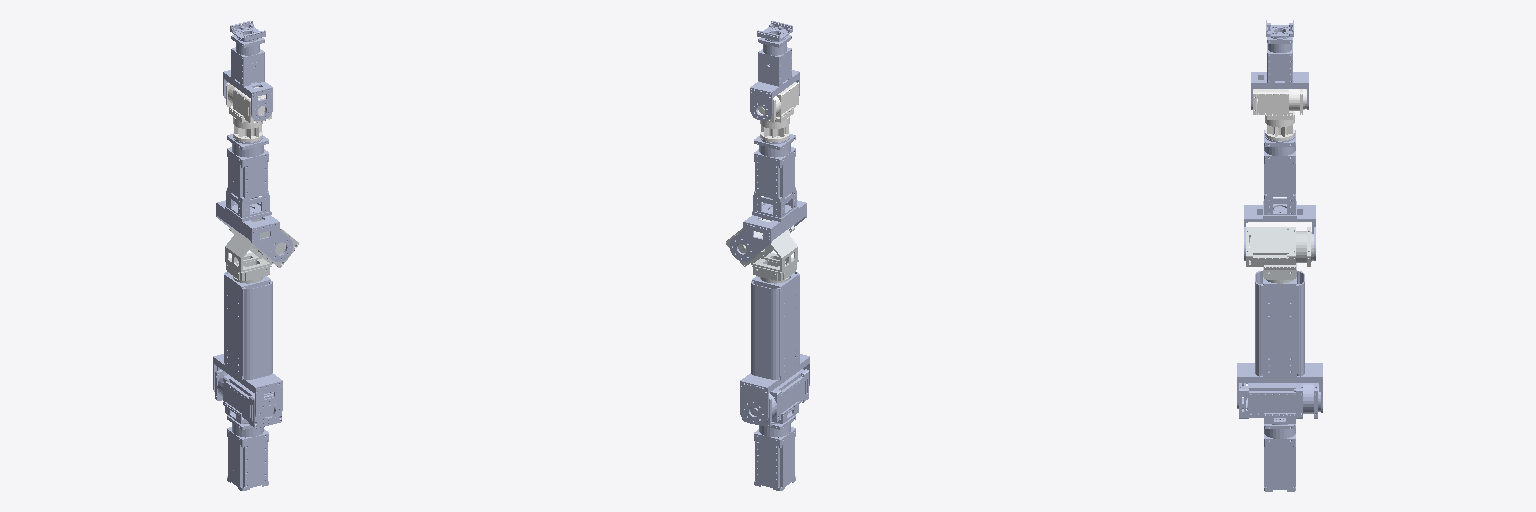
URDF robot description (robotis_pro7a):
<?xml version="1.0" ?>

<robot name="robotis_pro7a" xmlns:xacro="http://www.ros.org/wiki/xacro">

  <!-- ros_control plugin -->
  <gazebo>
    <plugin name="gazebo_ros_control" filename="libgazebo_ros_control.so">
      <robotNamespace>/robotis_pro7a</robotNamespace>
      <robotSimType>gazebo_ros_control/DefaultRobotHWSim</robotSimType>
    </plugin>
  </gazebo>

  <!-- World -->
  <gazebo reference="world" />

  <!-- Link1 -->
  <gazebo reference="link1">
    <mu1>0.2</mu1>
    <mu2>0.2</mu2>
    <material>Gazebo/Grey</material>
  </gazebo>

  <!-- Link2 -->
  <gazebo reference="link2">
    <mu1>0.2</mu1>
    <mu2>0.2</mu2>
    <material>Gazebo/Grey</material>
  </gazebo>

  <!-- Link3 -->
  <gazebo reference="link3">
    <mu1>0.2</mu1>
    <mu2>0.2</mu2>
    <material>Gazebo/Grey</material>
  </gazebo>

  <!-- Link4 -->
  <gazebo reference="link4">
    <mu1>0.2</mu1>
    <mu2>0.2</mu2>
    <material>Gazebo/Grey</material>
  </gazebo>

  <!-- Link5 -->
  <gazebo reference="link5">
    <mu1>0.2</mu1>
    <mu2>0.2</mu2>
    <material>Gazebo/Grey</material>
  </gazebo>

  <!-- Link6 -->
  <gazebo reference="link6">
    <mu1>0.2</mu1>
    <mu2>0.2</mu2>
    <material>Gazebo/Grey</material>
  </gazebo>

  <!-- Link7 -->
  <gazebo reference="link7">
    <mu1>0.2</mu1>
    <mu2>0.2</mu2>
    <material>Gazebo/Grey</material>
  </gazebo>

  <!-- End_Link -->
  <gazebo reference="end_link">
    <mu1>0.2</mu1>
    <mu2>0.2</mu2>
    <material>Gazebo/Grey</material>
  </gazebo>

  <!-- world -->
  <link name="world" />

  <joint name="world_fixed" type="fixed">
    <origin xyz="0 0 0" rpy="0 0 0"/>
    <parent link="world"/>
    <child link="link1"/>
  </joint>
  
  <!-- link 1 -->
  <link name="link1">
    <inertial>
      <origin xyz="0 0 0" rpy="0 0 0" />
      <mass value="0.3236" />
      <inertia ixx="0.002" ixy="0.0" ixz="0.0" iyy="0.002" iyz="0.0" izz="0.002"/>
    </inertial>
    <visual>
      <origin xyz="0 0 0" rpy="0 0 0" />
      <geometry>
        <mesh filename="package://pro7a_description/meshes/link1.STL" />
      </geometry>
      <material name="">
        <color rgba="0.79216 0.81961 0.93333 1" />
      </material>
    </visual>
    <collision>
      <origin xyz="0 0 0" rpy="0 0 0" />
      <geometry>
        <mesh filename="package://pro7a_description/meshes/link1.STL" />
      </geometry>
    </collision>
  </link>

  <!-- joint 1 -->
  <joint name="joint1" type="revolute">
    <origin xyz="0 0 0.126" rpy="0 0 0" />
    <parent link="link1" />
    <child link="link2" />
    <axis xyz="0 0 1" />
    <limit effort="1000" lower="-2.62" upper="2.62" velocity="6.5"/>
    <dynamics damping="0.7"/>
  </joint>

  <transmission name="tran1">
    <type>transmission_interface/SimpleTransmission</type>
    <joint name="joint1">
      <hardwareInterface>EffortJointInterface</hardwareInterface>
    </joint>
    <actuator name="motor1">
      <hardwareInterface>EffortJointInterface</hardwareInterface>
      <mechanicalReduction>1</mechanicalReduction>
    </actuator>
  </transmission>

  <!-- link 2 -->
  <link name="link2">
    <inertial>
      <origin xyz="0 0.0014958 0.032763" rpy="0 0 0" />
      <mass value="0.35395" />
      <inertia ixx="0.002" ixy="0.0" ixz="0.0" iyy="0.002" iyz="0.0" izz="0.002"/>
    </inertial>
    <visual>
      <origin xyz="0 0 0" rpy="0 0 0" />
      <geometry>
        <mesh filename="package://pro7a_description/meshes/link2.STL" />
      </geometry>
      <material name="">
        <color rgba="0.79216 0.81961 0.93333 1" />
      </material>
    </visual>
    <collision>
      <origin xyz="0 0 0" rpy="0 0 0" />
      <geometry>
        <mesh filename="package://pro7a_description/meshes/link2.STL" />
      </geometry>
    </collision>
  </link>

  <!-- joint 2 -->
  <joint name="joint2" type="revolute">
    <origin xyz="0 -0.072 0.034" rpy="0 0 0" />
    <parent link="link2" />
    <child link="link3" />
    <axis xyz="0 1 0" />
    <limit effort="1000" lower="-1.570796327" upper="1.570796327" velocity="6.5"/>
    <dynamics damping="0.7"/>
  </joint>

  <transmission name="tran2">
    <type>transmission_interface/SimpleTransmission</type>
    <joint name="joint2">
      <hardwareInterface>EffortJointInterface</hardwareInterface>
    </joint>
    <actuator name="motor2">
      <hardwareInterface>EffortJointInterface</hardwareInterface>
      <mechanicalReduction>1</mechanicalReduction>
    </actuator>
  </transmission>

  <!-- link 3 -->
  <link name="link3">
    <inertial>
      <origin xyz="0.00014574 0.072437 0.12161" rpy="0 0 0" />
      <mass value="0.50149" />
      <inertia ixx="0.002" ixy="0.0" ixz="0.0" iyy="0.002" iyz="0.0" izz="0.002"/>
    </inertial>
    <visual>
      <origin xyz="0 0 0" rpy="0 0 0" />
      <geometry>
        <mesh filename="package://pro7a_description/meshes/link3.STL" />
      </geometry>
      <material name="">
        <color rgba="0.79216 0.81961 0.93333 1" />
      </material>
    </visual>
    <collision>
      <origin xyz="0 0 0" rpy="0 0 0" />
      <geometry>
        <mesh filename="package://pro7a_description/meshes/link3.STL" />
      </geometry>
    </collision>
  </link>

  <!-- joint 3 -->
  <joint name="joint3" type="revolute">
    <origin xyz="0 0.072 0.195" rpy="0 0 0" />
    <parent link="link3" />
    <child link="link4" />
    <axis xyz="0 0 1" />
    <limit effort="1000" lower="-2.62" upper="2.62" velocity="6.5"/>
    <dynamics damping="0.7" />
  </joint>

 <transmission name="tran3">
    <type>transmission_interface/SimpleTransmission</type>
    <joint name="joint3">
      <hardwareInterface>EffortJointInterface</hardwareInterface>
    </joint>
    <actuator name="motor3">
      <hardwareInterface>EffortJointInterface</hardwareInterface>
      <mechanicalReduction>1</mechanicalReduction>
    </actuator>
  </transmission>

  <!-- link 4 -->
  <link name="link4">
    <inertial>
      <origin xyz="0.015802 0 0.064569" rpy="0 0 0" />
      <mass value="0.53361" />
      <inertia ixx="0.002" ixy="0.0" ixz="0.0" iyy="0.002" iyz="0.0" izz="0.002"/>
    </inertial>
    <visual>
      <origin xyz="0 0 0" rpy="0 0 0" />
      <geometry>
        <mesh filename="package://pro7a_description/meshes/link4.STL" />
      </geometry>
      <material name="">
        <color rgba="0.89412 0.91373 0.92941 1" />
      </material>
    </visual>
    <collision>
      <origin xyz="0 0 0" rpy="0 0 0" />
      <geometry>
        <mesh filename="package://pro7a_description/meshes/link4.STL" />
      </geometry>
    </collision>
  </link>

  <!-- joint 4 -->
  <joint name="joint4" type="revolute">
    <origin xyz="0.03 -0.06 0.095" rpy="0 0 0" />
    <parent link="link4" />
    <child link="link5" />
    <axis xyz="0 1 0" />
    <limit effort="1000" lower="-0.65" upper="3.141592654" velocity="6.5"/>
    <dynamics damping="0.7"/>
  </joint>

  <transmission name="tran4">
    <type>transmission_interface/SimpleTransmission</type>
    <joint name="joint4">
      <hardwareInterface>EffortJointInterface</hardwareInterface>
    </joint>
    <actuator name="motor4">
      <hardwareInterface>EffortJointInterface</hardwareInterface>
      <mechanicalReduction>1</mechanicalReduction>
    </actuator>
  </transmission>

  <!-- link 5 -->
  <link name="link5">
    <inertial>
      <origin xyz="-0.029459 0.060231 0.1178" rpy="0 0 0" />
      <mass value="0.35861" />
      <inertia ixx="0.002" ixy="0.0" ixz="0.0" iyy="0.002" iyz="0.0" izz="0.002"/>
    </inertial>
    <visual>
      <origin xyz="0 0 0" rpy="0 0 0" />
      <geometry>
        <mesh filename="package://pro7a_description/meshes/link5.STL" />
      </geometry>
      <material name="">
        <color rgba="0.79216 0.81961 0.93333 1" />
      </material>
    </visual>
    <collision>
      <origin xyz="0 0 0" rpy="0 0 0" />
      <geometry>
        <mesh filename="package://pro7a_description/meshes/link5.STL" />
      </geometry>
    </collision>
  </link>

  <!-- joint 5 -->
  <joint name="joint5" type="revolute">
    <origin xyz="-0.03 0.06 0.195" rpy="0 0 0" />
    <parent link="link5" />
    <child link="link6" />
    <axis xyz="0 0 1" />
    <limit effort="1000" lower="-2.62" upper="2.62" velocity="6.5"/>
    <dynamics damping="0.7"/>
  </joint>

  <transmission name="tran5">
    <type>transmission_interface/SimpleTransmission</type>
    <joint name="joint5">
      <hardwareInterface>EffortJointInterface</hardwareInterface>
    </joint>
    <actuator name="motor5">
      <hardwareInterface>EffortJointInterface</hardwareInterface>
      <mechanicalReduction>1</mechanicalReduction>
    </actuator>
  </transmission>

  <!-- link 6 -->
  <link name="link6">
    <inertial>
      <origin xyz="0 -0.00099225 0.050446" rpy="0 0 0" />
      <mass value="0.2022" />
      <inertia ixx="0.002" ixy="0.0" ixz="0.0" iyy="0.002" iyz="0.0" izz="0.002"/>
    </inertial>
    <visual>
      <origin xyz="0 0 0" rpy="0 0 0" />
      <geometry>
        <mesh filename="package://pro7a_description/meshes/link6.STL" />
      </geometry>
      <material name="">
        <color rgba="1 1 1 1" />
      </material>
    </visual>
    <collision>
      <origin xyz="0 0 0" rpy="0 0 0" />
      <geometry>
        <mesh filename="package://pro7a_description/meshes/link6.STL" />
      </geometry>
    </collision>
  </link>

  <!-- joint 6 -->
  <joint name="joint6" type="revolute">
    <origin xyz="0 -0.048 0.063" rpy="0 0 0" />
    <parent link="link6" />
    <child link="link7" />
    <axis xyz="0 1 0" />
    <limit effort="1000" lower="-1.570796327" upper="1.570796327" velocity="6.5"/>
    <dynamics damping="0.7"/>
  </joint>

  <transmission name="tran6">
    <type>transmission_interface/SimpleTransmission</type>
    <joint name="joint6">
      <hardwareInterface>EffortJointInterface</hardwareInterface>
    </joint>
    <actuator name="motor6">
      <hardwareInterface>EffortJointInterface</hardwareInterface>
      <mechanicalReduction>1</mechanicalReduction>
    </actuator>
  </transmission>

  <!-- link 7 -->
  <link name="link7">
    <inertial>
      <origin xyz="0 0.048354 0.068515" rpy="0 0 0" />
      <mass value="0.16217" />
      <inertia ixx="0.002" ixy="0.0" ixz="0.0" iyy="0.002" iyz="0.0" izz="0.002"/>
    </inertial>
    <visual>
      <origin xyz="0 0 0" rpy="0 0 0" />
      <geometry>
        <mesh filename="package://pro7a_description/meshes/link7.STL" />
      </geometry>
      <material name="">
        <color rgba="0.79216 0.81961 0.93333 1" />
      </material>
    </visual>
    <collision>
      <origin xyz="0 0 0" rpy="0 0 0" />
      <geometry>
        <mesh filename="package://pro7a_description/meshes/link7.STL" />
      </geometry>
    </collision>
  </link>

  <!-- joint 7 -->
  <joint name="joint7" type="revolute">
    <origin xyz="0 0.048 0.123" rpy="0 0 0" />
    <parent link="link7" />
    <child link="end_link" />
    <axis xyz="0 0 1" />
    <limit effort="1000" lower="-2.62" upper="2.62" velocity="6.5"/>
    <dynamics damping="0.7"/>
  </joint>

  <transmission name="tran7">
    <type>transmission_interface/SimpleTransmission</type>
    <joint name="joint7">
      <hardwareInterface>EffortJointInterface</hardwareInterface>
    </joint>
    <actuator name="motor7">
      <hardwareInterface>EffortJointInterface</hardwareInterface>
      <mechanicalReduction>1</mechanicalReduction>
    </actuator>
  </transmission>

  <!-- end link -->
  <link name="end_link">
    <inertial>
      <origin xyz="0 0 0.0031903" rpy="0 0 0" />
      <mass value="0.0062712" />
      <inertia ixx="0.0" ixy="0.0" ixz="0.0" iyy="0.0" iyz="0.0" izz="0.0"/>
    </inertial>
    <visual>
      <origin xyz="0 0 0" rpy="0 0 0" />
      <geometry>
        <mesh filename="package://pro7a_description/meshes/end_link.STL" />
      </geometry>
      <material name="">
        <color rgba="0.79216 0.81961 0.93333 1" />
      </material>
    </visual>
    <collision>
      <origin xyz="0 0 0" rpy="0 0 0" />
      <geometry>
        <mesh filename="package://pro7a_description/meshes/end_link.STL" />
      </geometry>
    </collision>
  </link>

</robot>

--- Render facts (derived) ---
The picture shows the robot from 3 angles, left to right: view 1: azimuth 30°, elevation 25°; view 2: azimuth 150°, elevation 25°; view 3: azimuth 270°, elevation 25°; orthographic projection.
Robot: robotis_pro7a — 9 links, 8 joints (7 revolute, 1 fixed); root link world; default pose: all joints at 0.
Links seen in each view (by area): view 1: link3, link5, link1, link7, link4, link2, link6; view 2: link3, link5, link1, link7, link4, link2, link6; view 3: link3, link5, link4, link2, link1, link6, link7.
Boxes of the visible links, x1=… form: link3: x1=213, y1=272, x2=282, y2=420; link5: x1=216, y1=134, x2=292, y2=261; link1: x1=227, y1=415, x2=268, y2=490; link7: x1=223, y1=32, x2=272, y2=120; link4: x1=225, y1=219, x2=298, y2=283; link2: x1=215, y1=370, x2=281, y2=428; link6: x1=226, y1=83, x2=271, y2=141; link3: x1=740, y1=272, x2=809, y2=425; link5: x1=730, y1=134, x2=806, y2=261; link1: x1=754, y1=415, x2=795, y2=490; link7: x1=750, y1=32, x2=799, y2=120; link4: x1=726, y1=218, x2=798, y2=283; link2: x1=742, y1=369, x2=808, y2=426; link6: x1=753, y1=82, x2=798, y2=141; link3: x1=1237, y1=271, x2=1322, y2=412; link5: x1=1244, y1=130, x2=1315, y2=260; link4: x1=1246, y1=227, x2=1313, y2=283; link2: x1=1239, y1=383, x2=1320, y2=423; link1: x1=1264, y1=424, x2=1295, y2=491; link6: x1=1253, y1=89, x2=1306, y2=140; link7: x1=1251, y1=29, x2=1308, y2=109.
Bounding box of the posed robot: 0.0968 × 0.144 × 0.8425 m (x, y, z).
Meshes: 8 distinct files referenced, 8 mesh visuals loaded (8 binary STL).